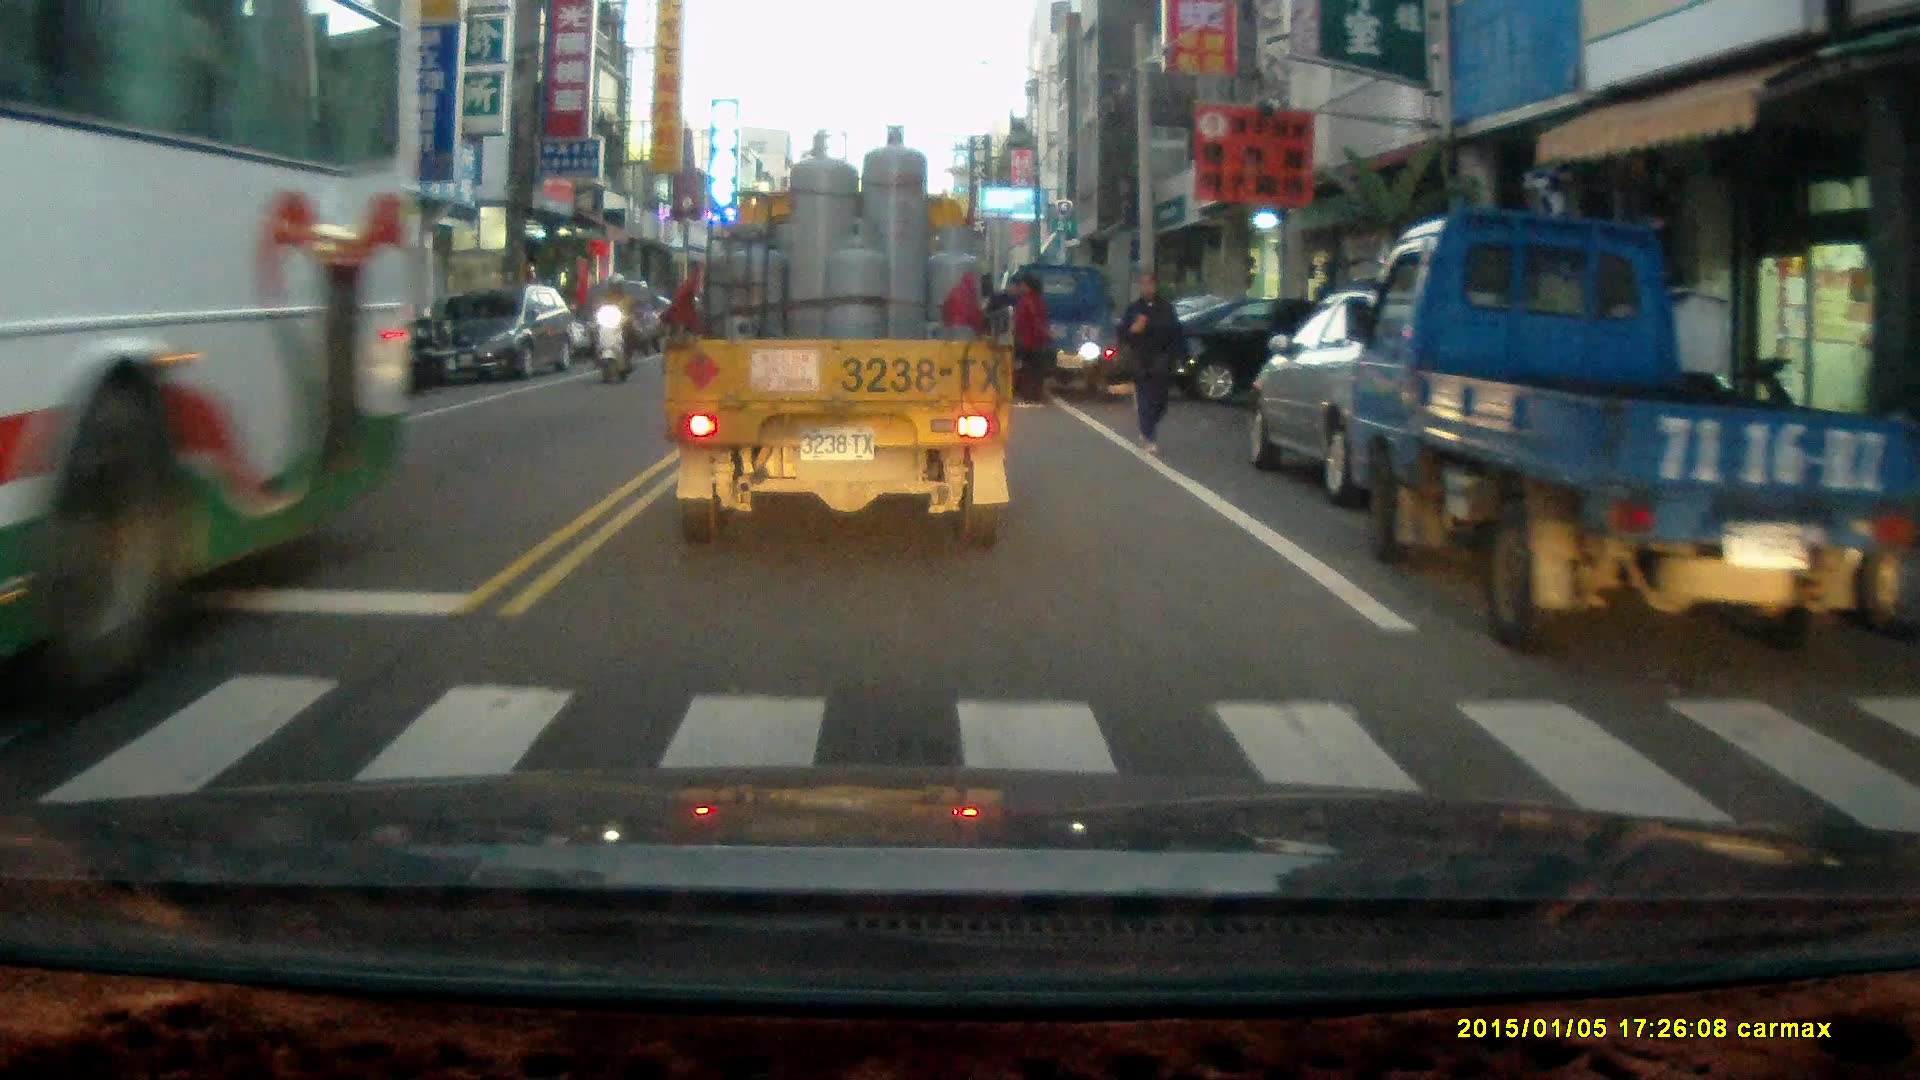pedestrian: (1117, 270, 1199, 454), (1011, 273, 1048, 406)
rider: (589, 268, 638, 383)
vehicle: (1, 2, 410, 670), (1342, 205, 1882, 657), (663, 123, 1017, 553), (1240, 283, 1556, 513), (1151, 291, 1413, 413), (998, 261, 1137, 401), (441, 284, 577, 385), (578, 278, 672, 362)
